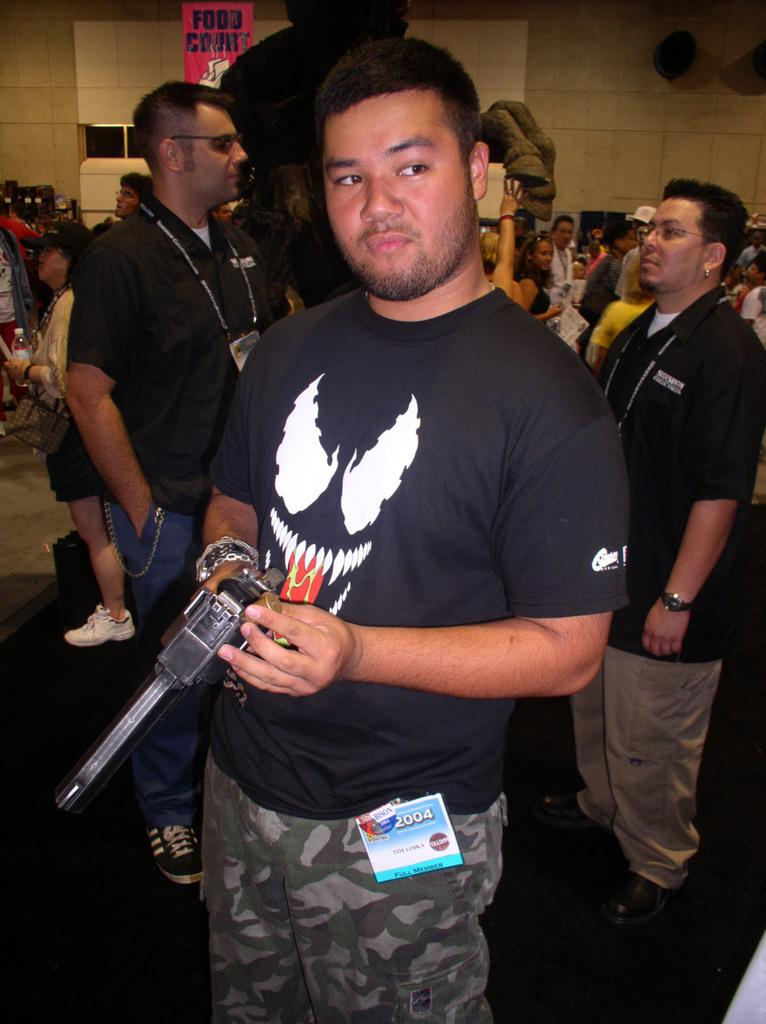non-violence: (202, 80, 657, 1024), (70, 93, 292, 926), (570, 179, 766, 913), (19, 237, 131, 638), (507, 212, 766, 328), (107, 168, 148, 219)
weapon: (86, 552, 298, 801)
